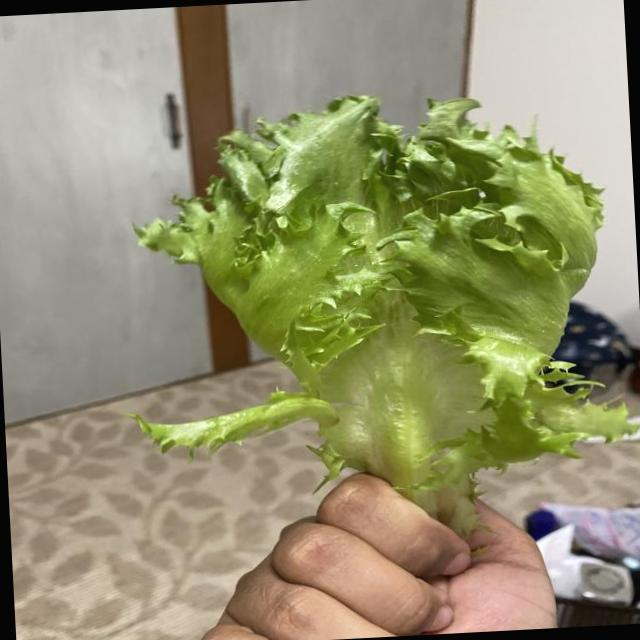Lettuce-Ready-to-Harvest: (136, 96, 629, 533)
